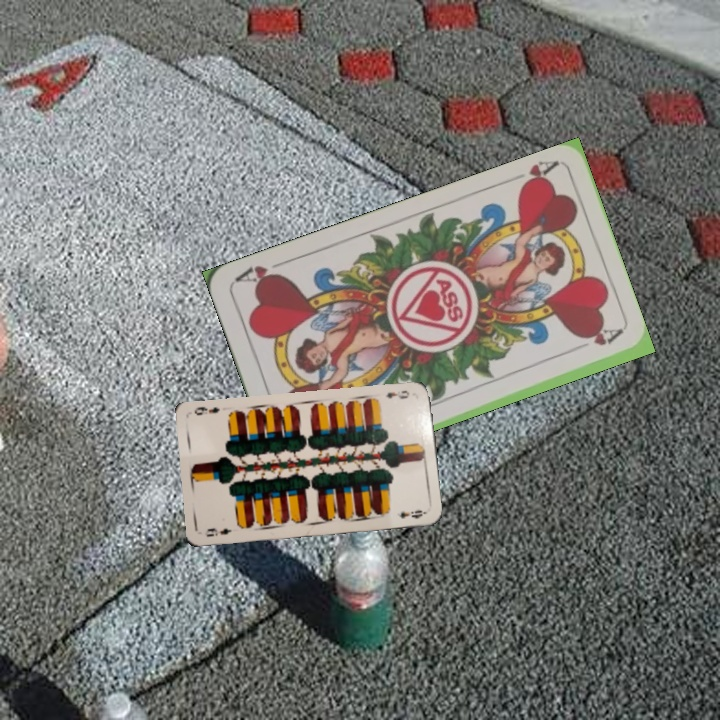E9: (203, 524, 234, 539), (381, 386, 412, 401)
HA: (515, 156, 561, 194)
